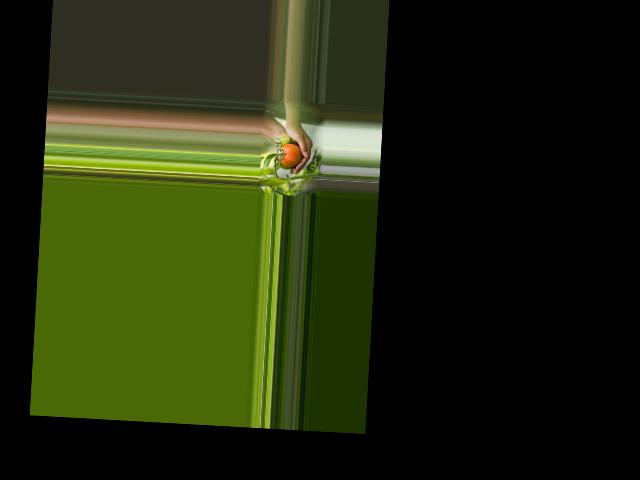tomato: (278, 142, 302, 166)
